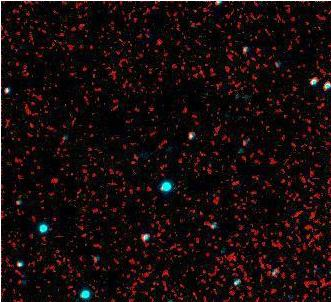star: (151, 28, 181, 58)
